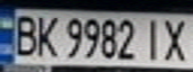2: (115, 16, 142, 61)
8: (100, 16, 121, 61)
9: (60, 13, 84, 60), (78, 15, 103, 60)
B: (9, 11, 42, 57)
I: (139, 16, 166, 62)
K: (33, 12, 60, 59)
X: (160, 16, 193, 62)
